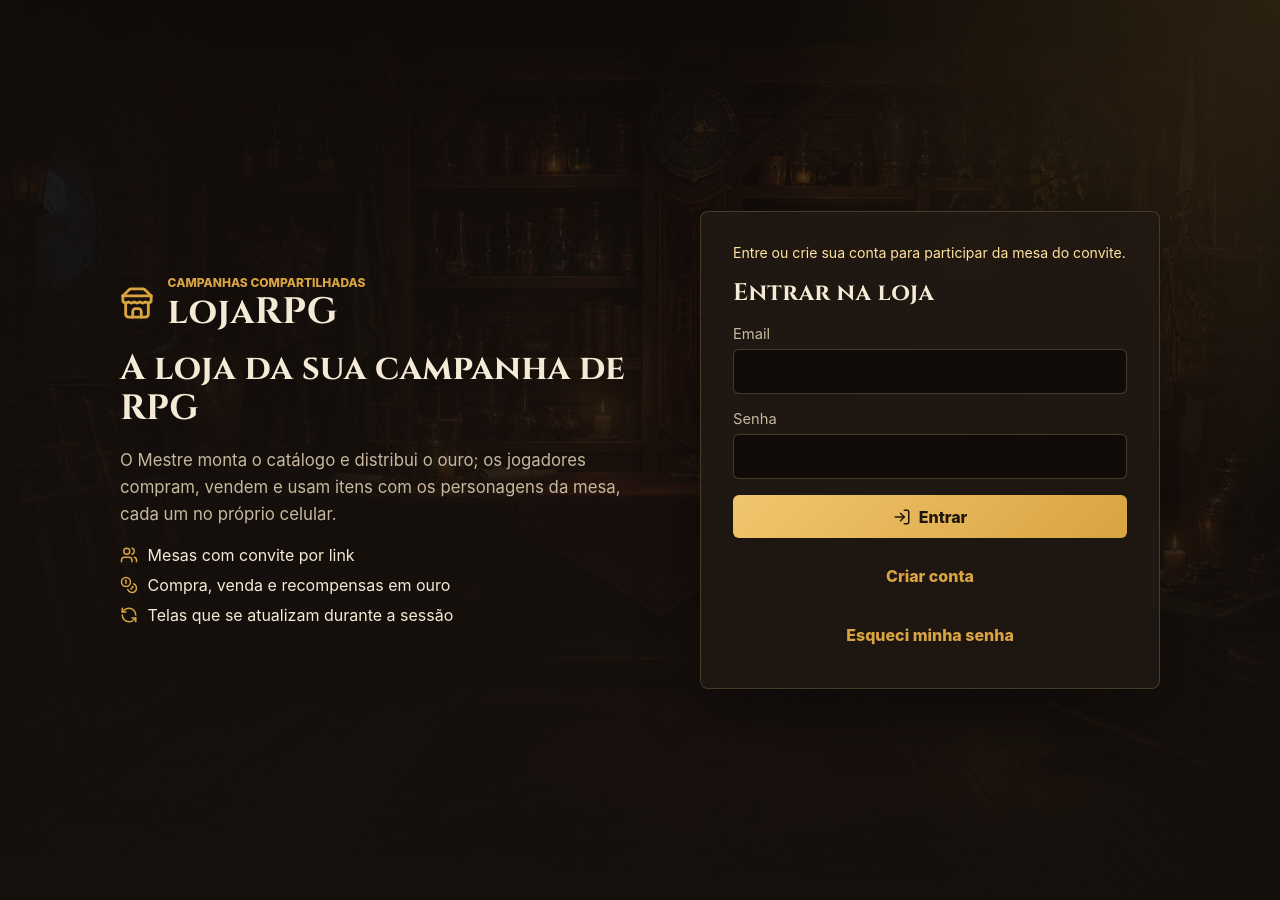
Scenario: convite por link › entra na mesa depois de criar a conta pelo link
Click the button "Criar conta" at (930, 576), box [733,554,1127,597]
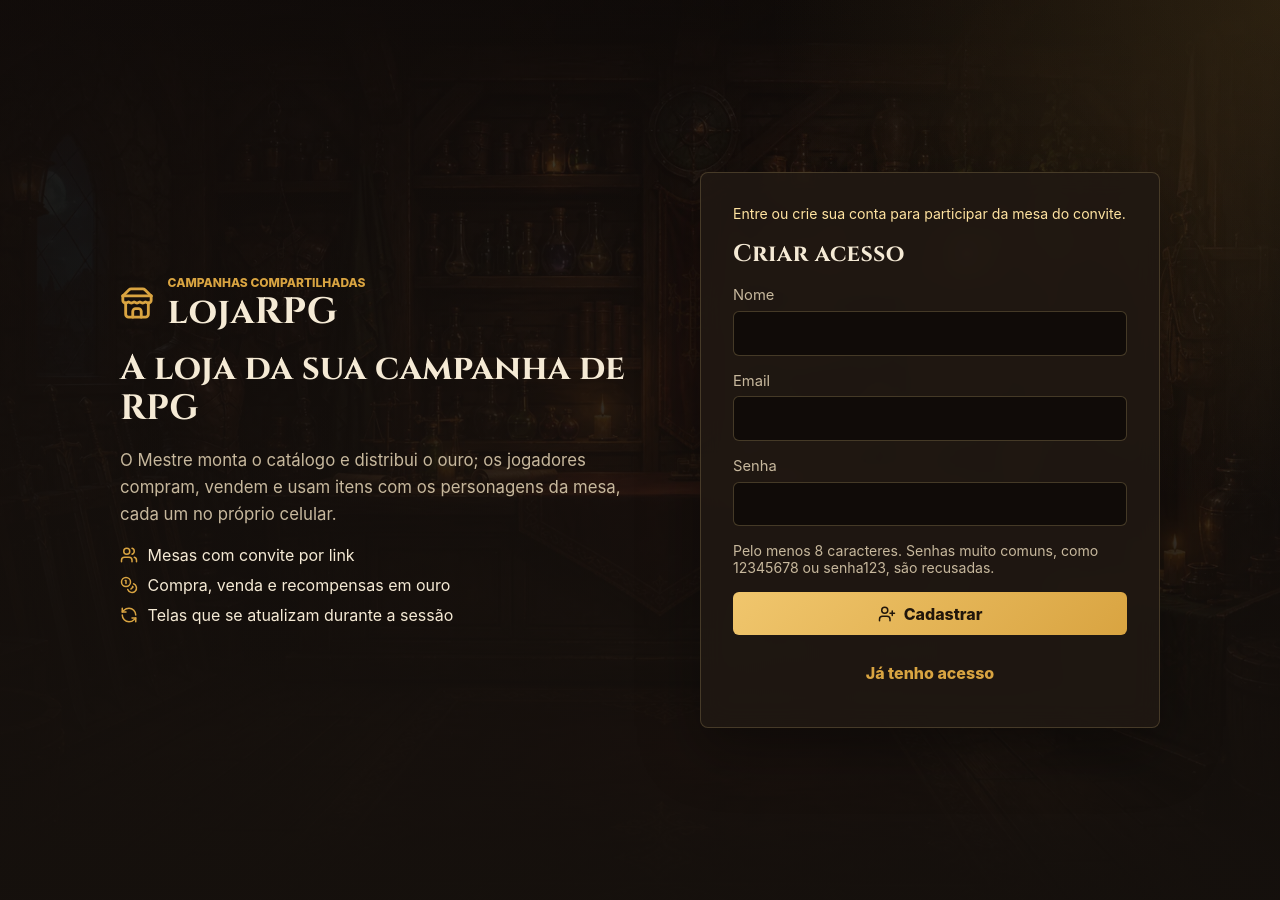
Type "Lia" into the field labelled "Nome" at (930, 333), box [733,311,1127,356]
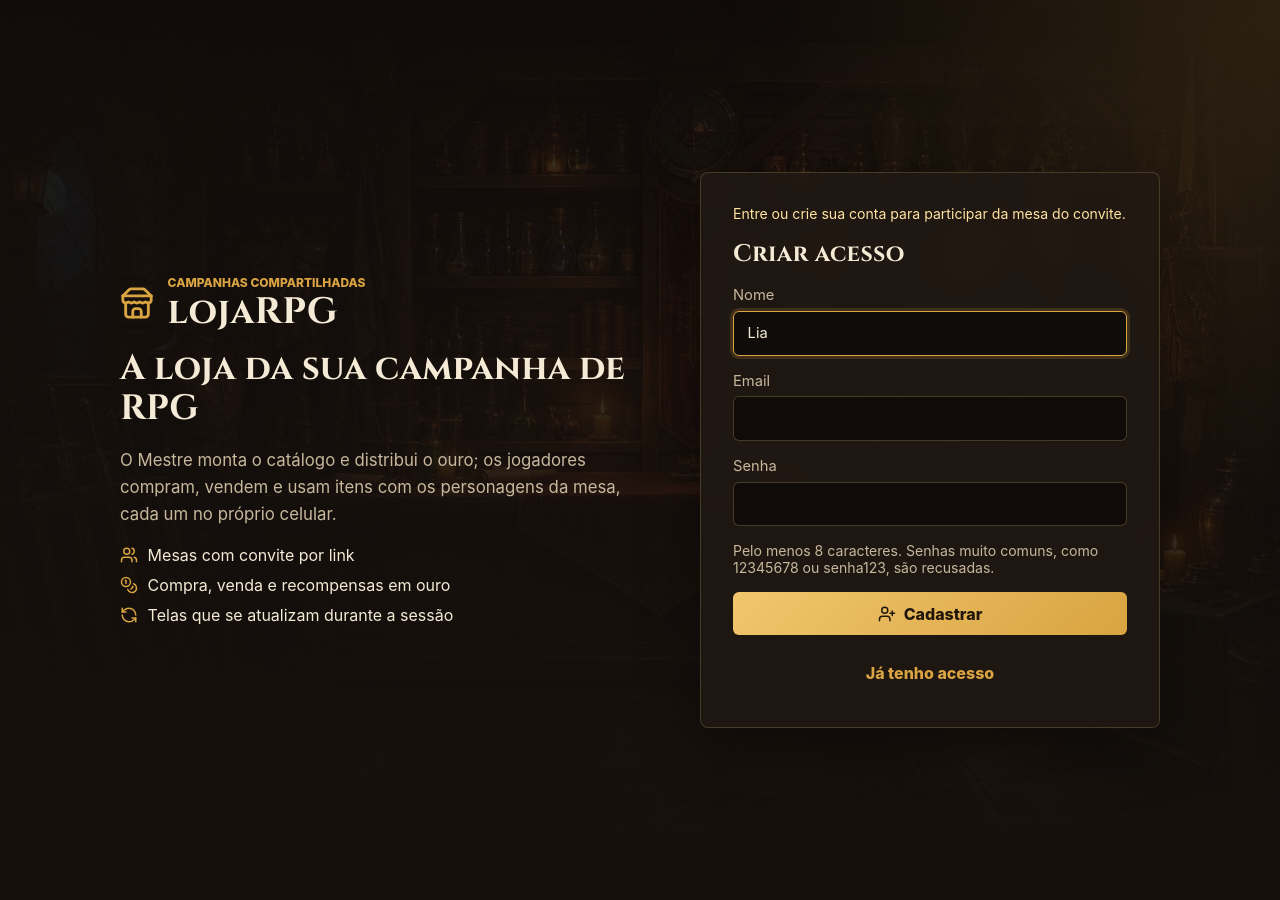
Type "lia@exemplo.com" into the field labelled "Email" at (930, 419), box [733,396,1127,441]
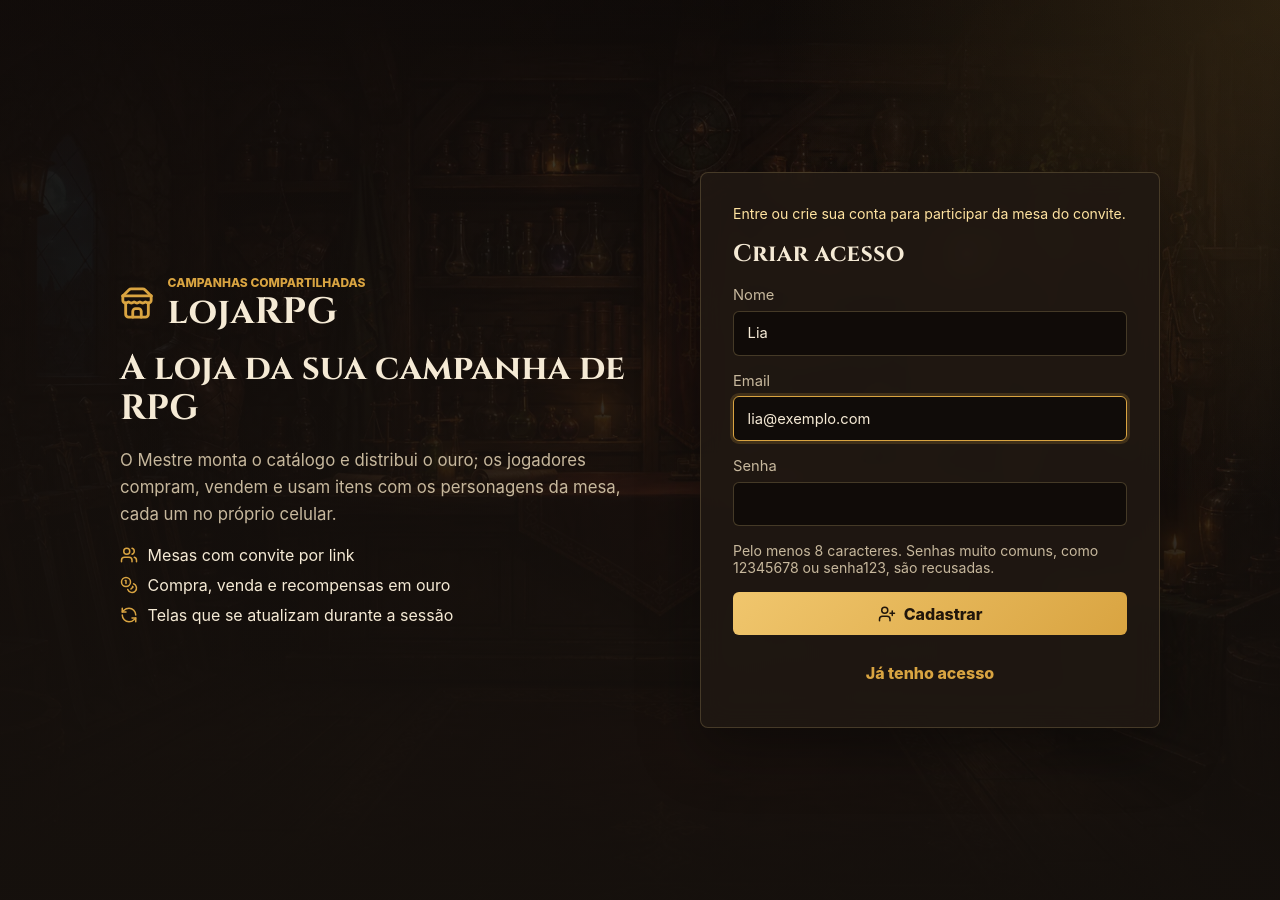
Type "segredo1" into the password field labelled "Senha" at (930, 504), box [733,482,1127,526]
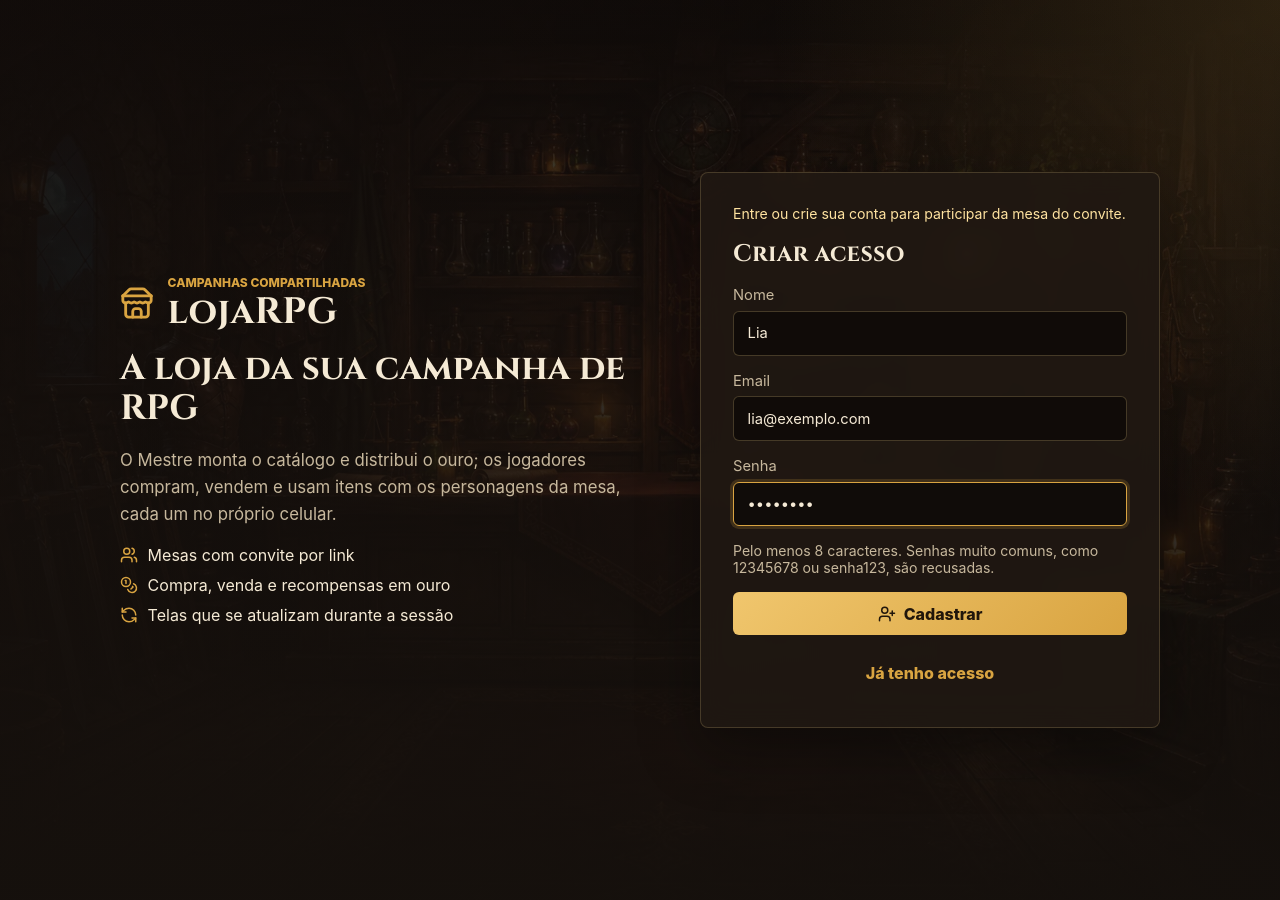
Click the button "Cadastrar" at (930, 614), box [733,592,1127,636]
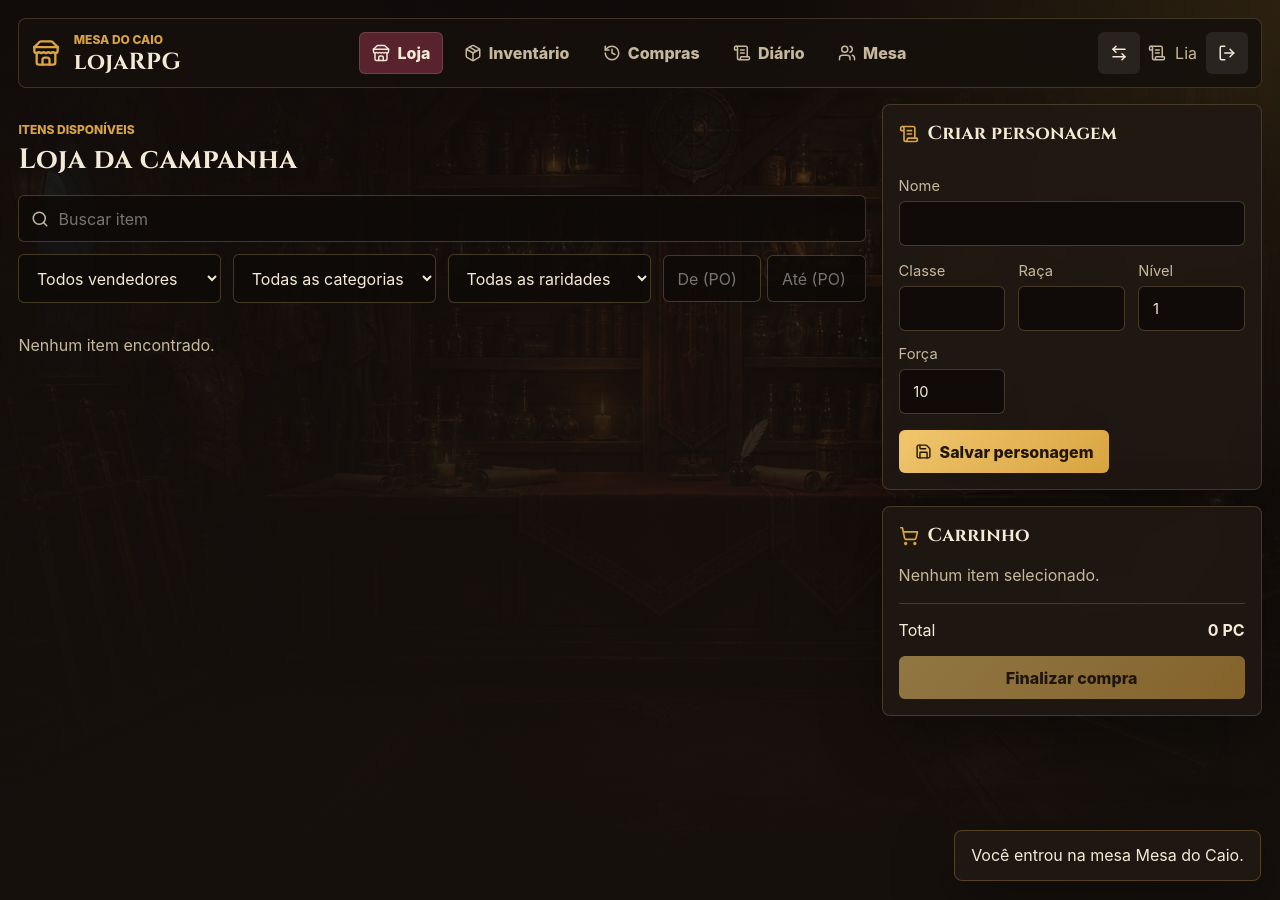
Check: the text "Mesa do Caio" is shown, box [74,32,163,47]
Check: the text "Você entrou na mesa Mesa do Caio." is shown, box [954,830,1261,881]
